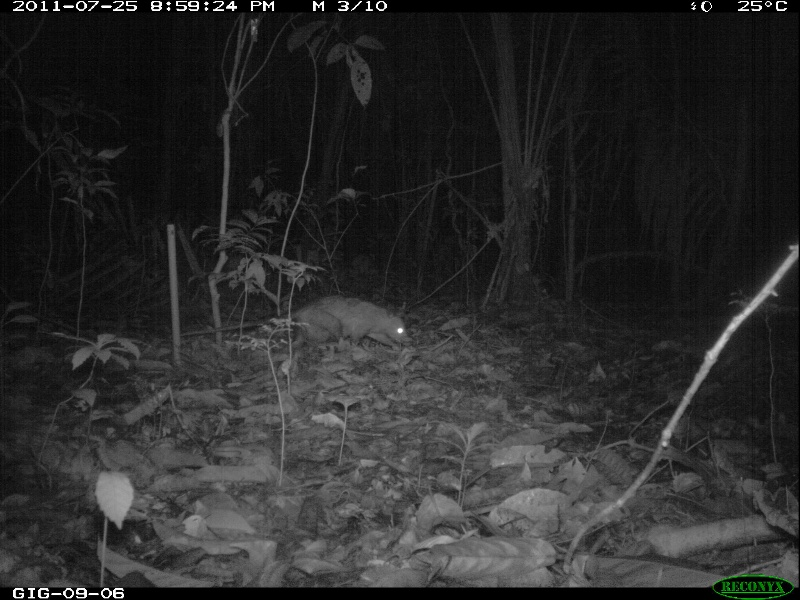opossum: (177, 294, 414, 353)
